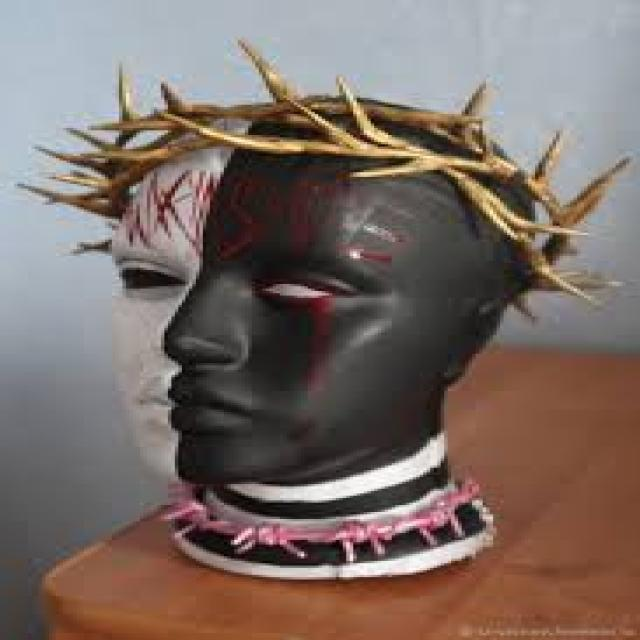crown: (7, 64, 636, 218)
